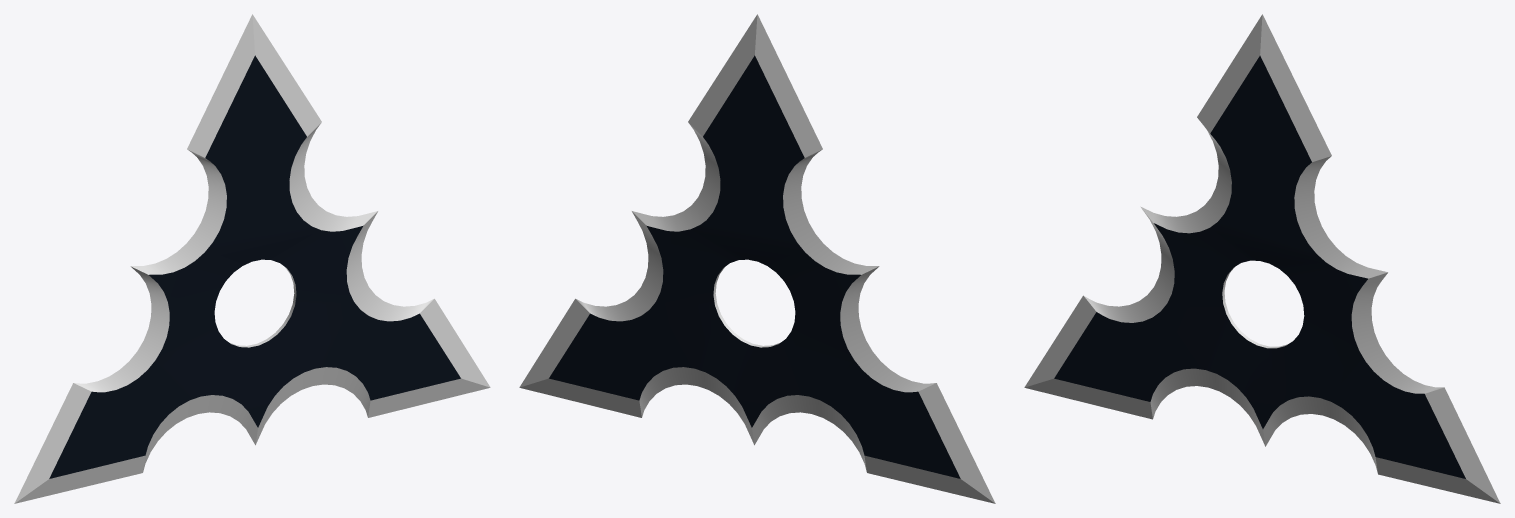
The model's file is shuriken-by-ipoly3d-mrzNkmPnMo.glb.
3 views of the same model, side by side, from view 1: azimuth 30°, elevation 25°; view 2: azimuth 150°, elevation 25°; view 3: azimuth 330°, elevation 25° (orthographic).
Visible parts, largest first — view 1: Shuriken_24; view 2: Shuriken_24; view 3: Shuriken_24.
Part boxes in pixels (x1=…): Shuriken_24: x1=14, y1=14, x2=490, y2=503; Shuriken_24: x1=519, y1=14, x2=995, y2=503; Shuriken_24: x1=1024, y1=14, x2=1500, y2=503.
Bounding box in the file's own units: 2 × 1.74 × 0.0368.
